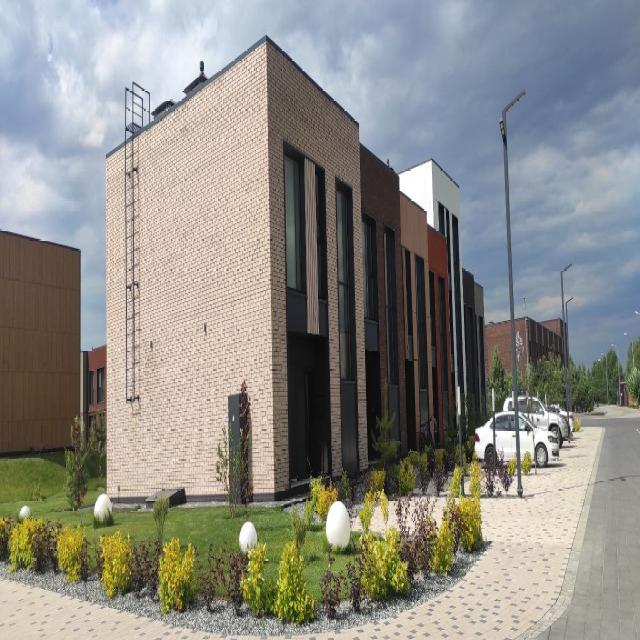Building: (107, 36, 489, 510)
